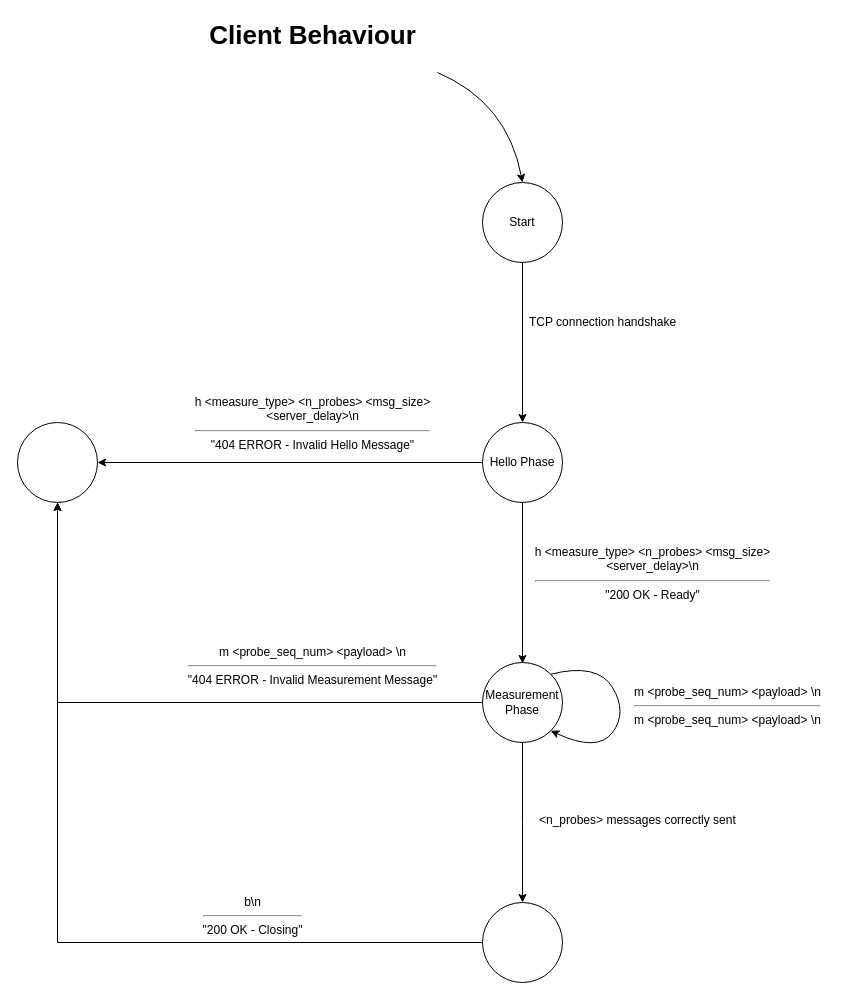
Image size: 845x1000. Some labels were removed from this diagram. Each missing label, with the centre of its shape:
"Bye Phase" goes at [522,942].
"End" goes at [57,462].
